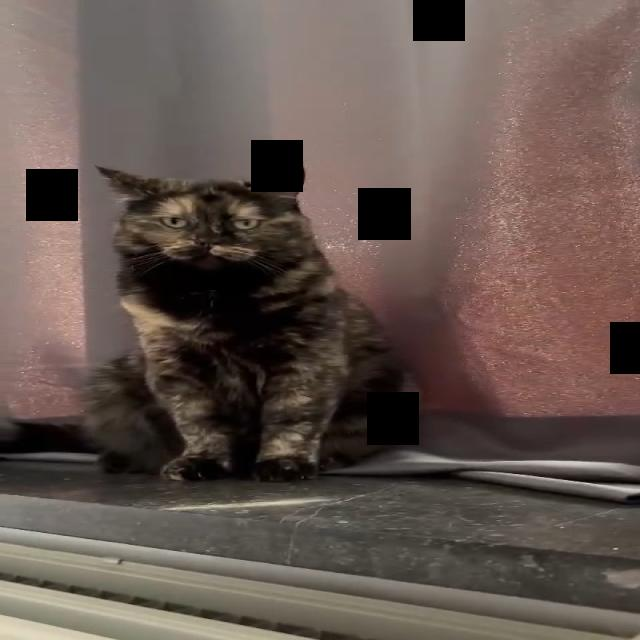authorized: (80, 162, 423, 482)
